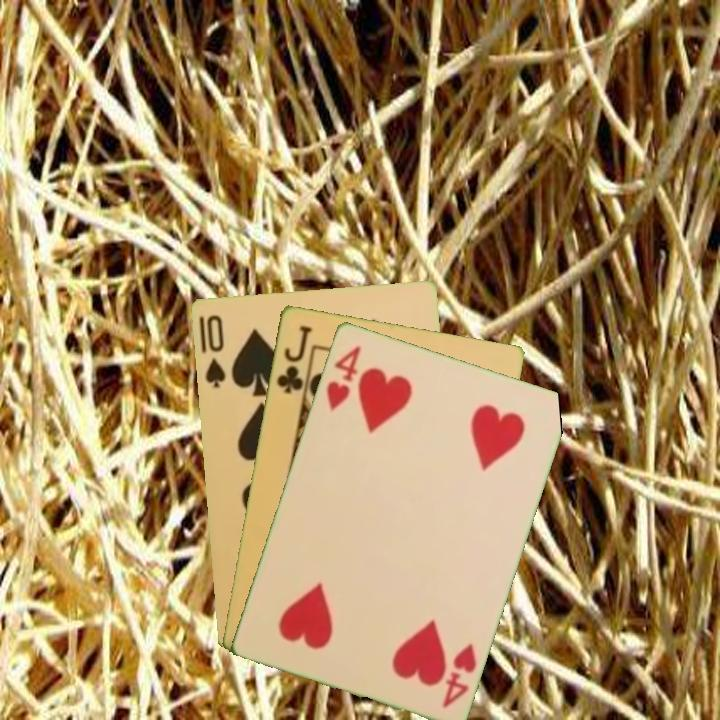10s: (201, 311, 228, 390)
4h: (322, 342, 364, 414), (438, 639, 479, 711)
Jc: (272, 321, 315, 396)
